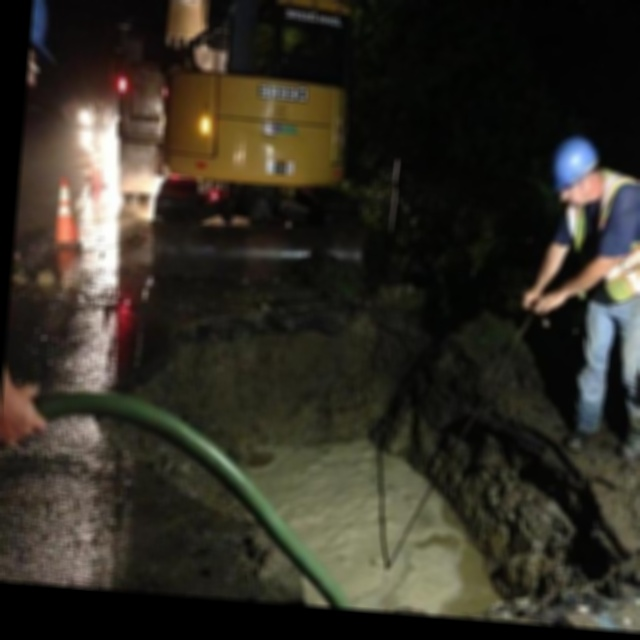Con_Casco: (552, 134, 600, 205)
Con_Chaleco: (591, 168, 640, 299)
